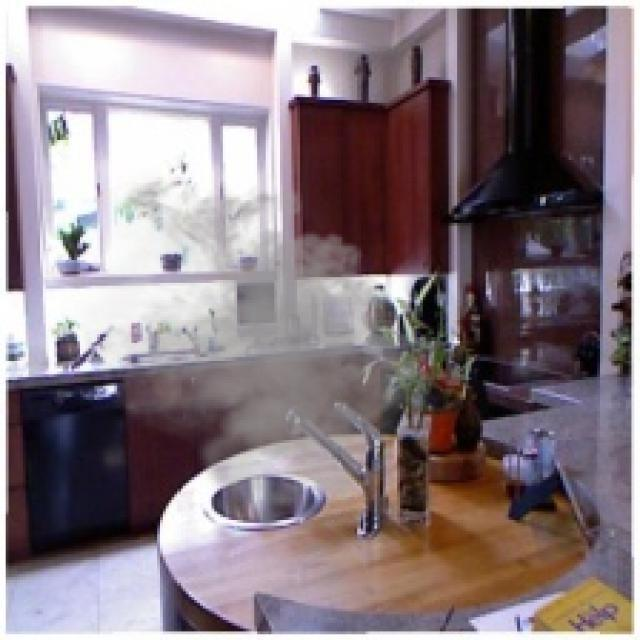Smoke: (60, 166, 440, 532)
